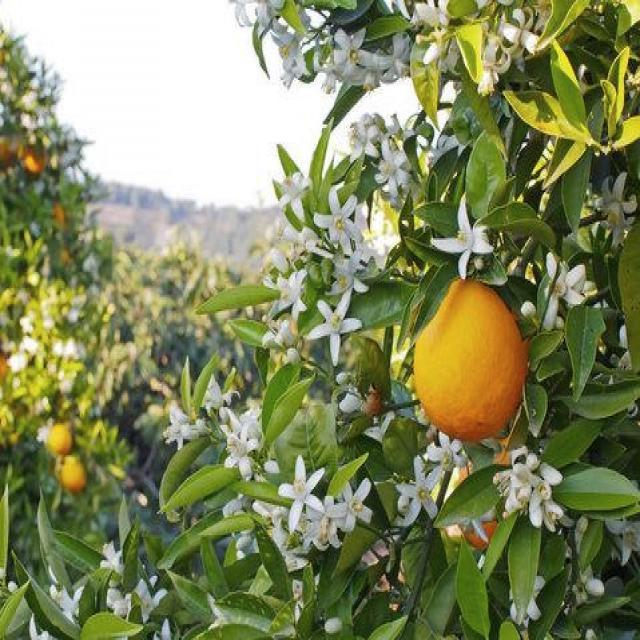Bunga: (432, 198, 490, 270), (308, 290, 364, 364), (279, 455, 325, 530), (398, 456, 446, 524), (316, 183, 360, 247), (541, 258, 583, 324), (327, 252, 369, 310), (600, 174, 635, 237), (334, 479, 374, 534), (469, 48, 512, 98), (502, 7, 542, 59), (332, 29, 376, 74), (272, 176, 316, 220), (264, 270, 306, 316), (424, 428, 464, 476), (378, 138, 409, 198), (374, 34, 412, 80), (602, 513, 640, 558), (222, 423, 256, 473), (278, 220, 317, 260), (348, 59, 384, 95), (346, 122, 379, 160), (279, 50, 310, 90), (229, 0, 271, 28), (200, 379, 236, 409), (312, 55, 340, 93), (162, 411, 192, 446), (272, 28, 296, 66), (541, 499, 564, 532), (386, 116, 414, 142), (530, 476, 550, 506), (414, 3, 440, 24), (513, 460, 532, 488), (339, 391, 361, 413), (541, 462, 563, 484), (271, 249, 290, 274), (529, 494, 543, 524), (422, 41, 440, 64), (584, 578, 604, 598), (521, 300, 535, 318), (287, 348, 301, 364)
Jeruk Sudah Matang: (409, 282, 525, 440)
